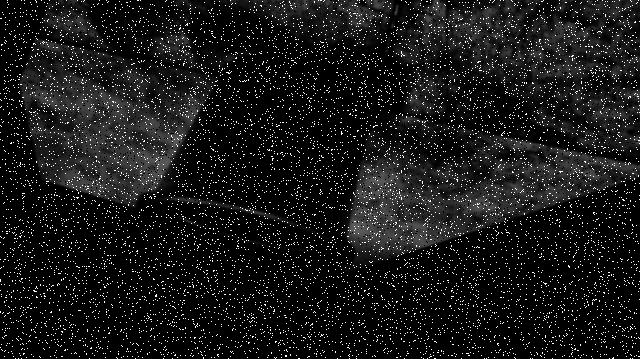pot: (136, 55, 368, 268)
